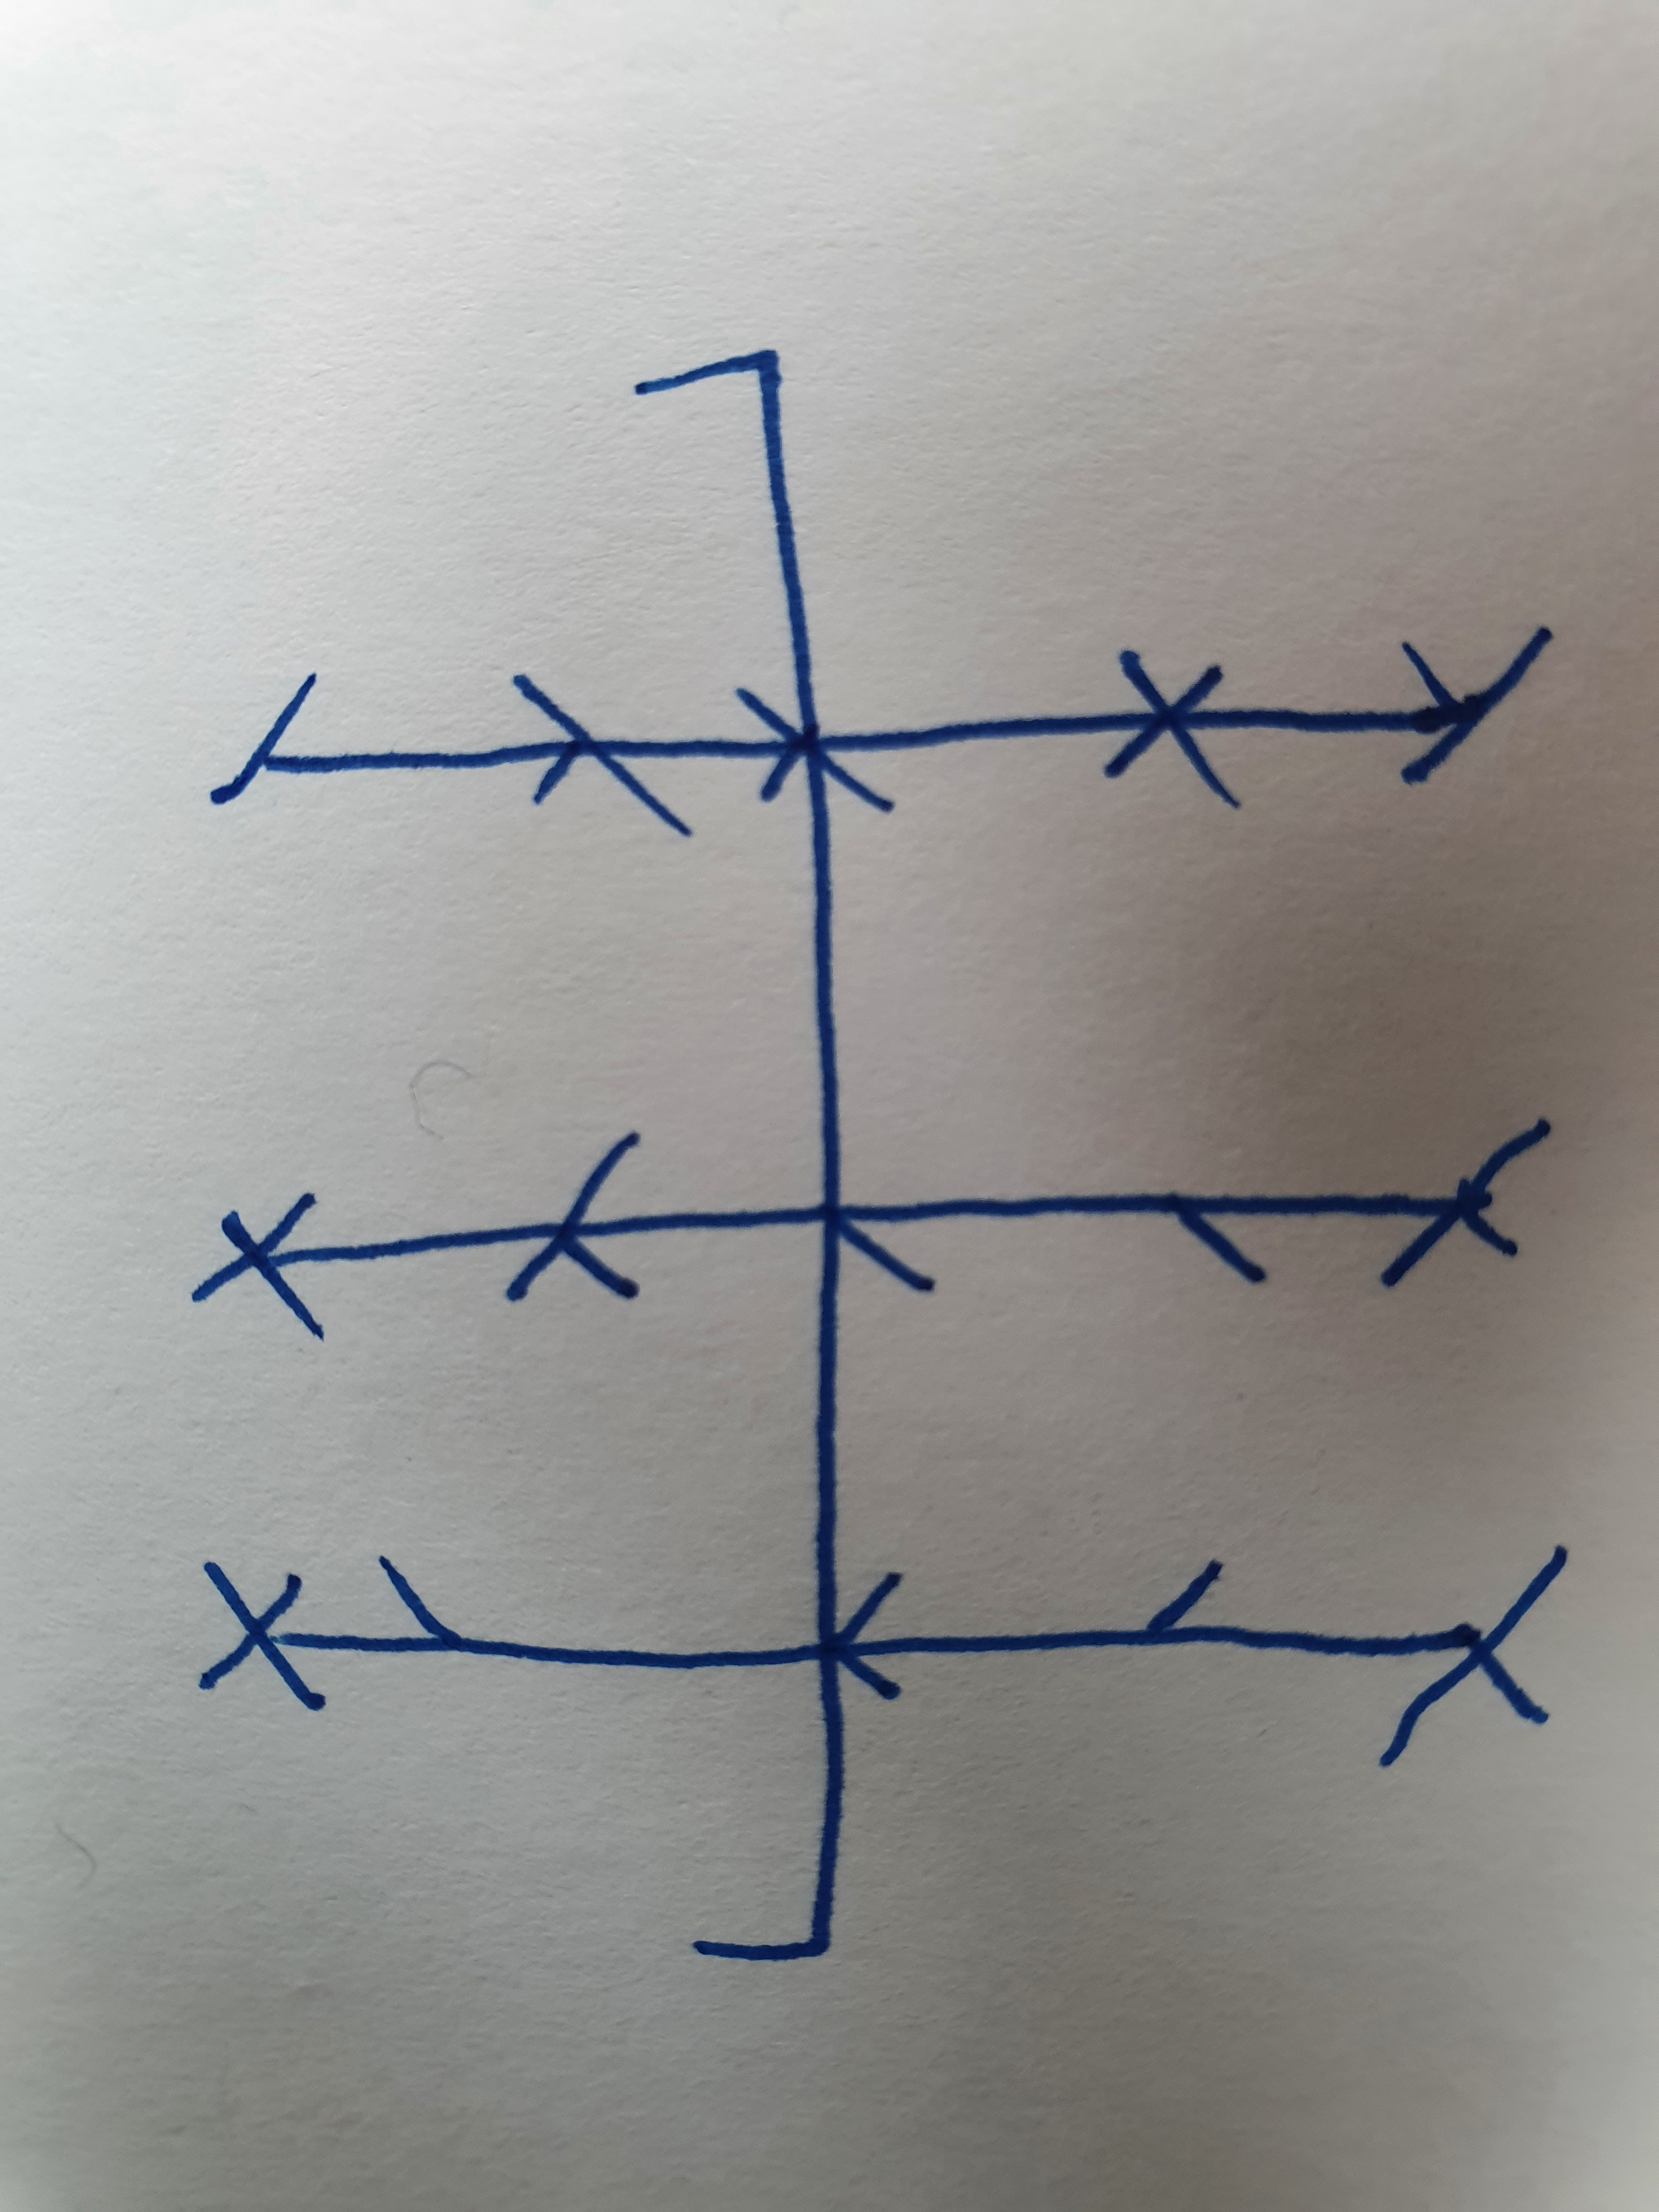Bar: (199, 1543, 1568, 1770), (192, 1118, 1554, 1341), (209, 624, 1553, 838)
Barcode: (192, 343, 1570, 1958)
End: (634, 341, 814, 685)
Start: (694, 1667, 840, 1959)
